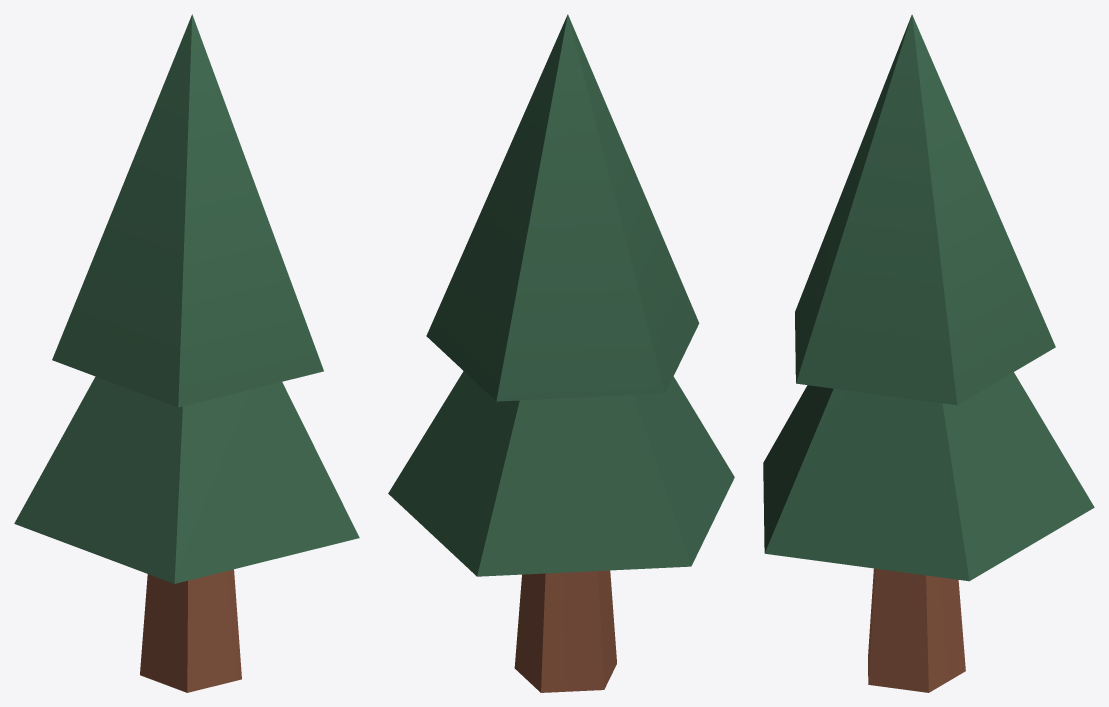
Rendered from treeA-elf.glb.
3 renders of one model, left to right at view 1: azimuth 30°, elevation 25°; view 2: azimuth 150°, elevation 25°; view 3: azimuth 270°, elevation 25°, orthographic.
Visible parts, largest first — view 1: treeA-elf; view 2: treeA-elf; view 3: treeA-elf.
Boxes of the visible parts, left/top/right/bottom form: treeA-elf: left=14, top=14, right=359, bottom=692; treeA-elf: left=388, top=14, right=734, bottom=692; treeA-elf: left=763, top=14, right=1094, bottom=692.
Bounding box in the file's own units: 0.574 × 1.2 × 0.547.
